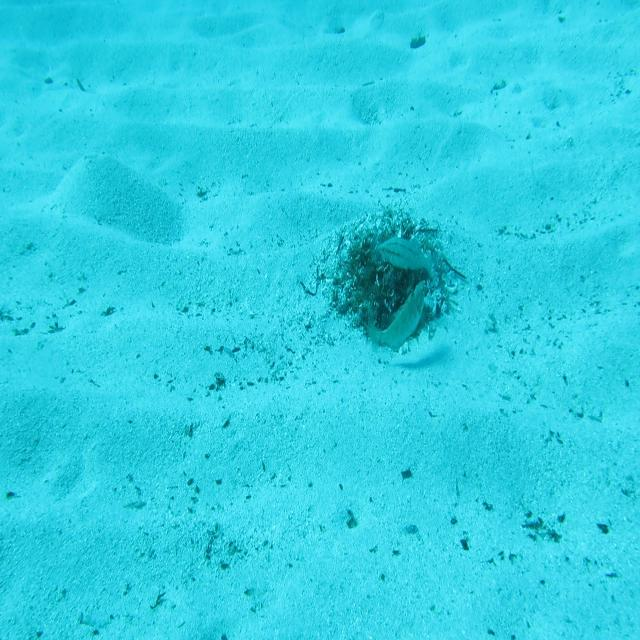GB: (360, 275, 432, 356)
female: (372, 224, 442, 286)
nest: (336, 204, 463, 351)
